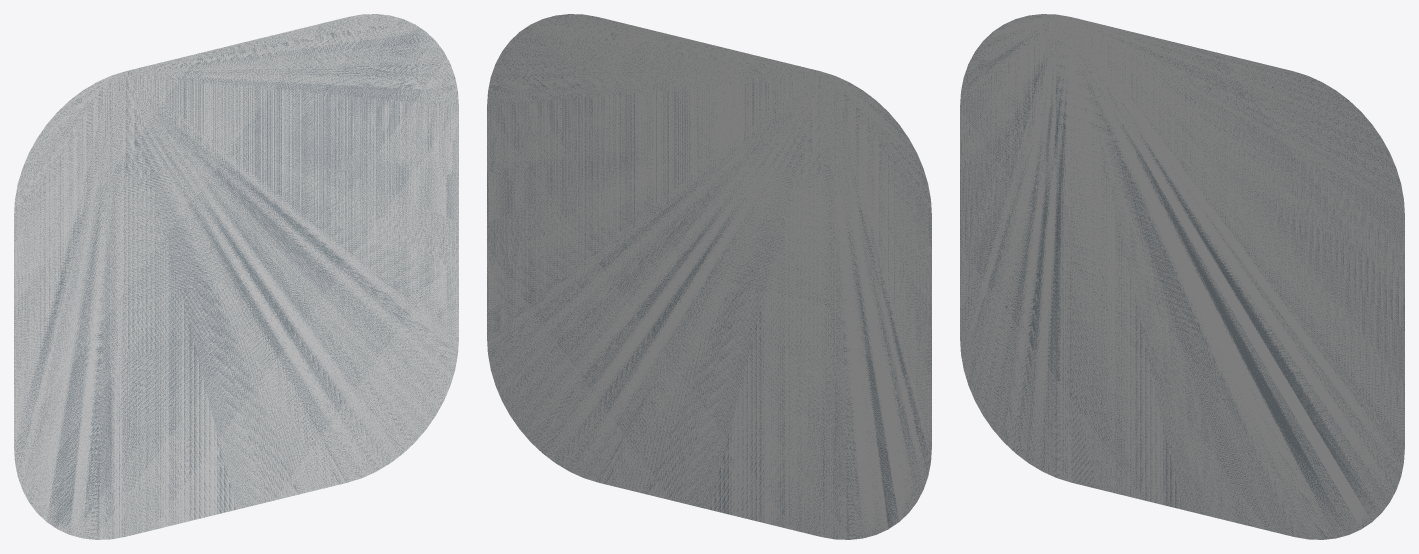
File: Soft_soft_edged.obj
3 renders of one model, left to right at view 1: azimuth 30°, elevation 25°; view 2: azimuth 150°, elevation 25°; view 3: azimuth 330°, elevation 25°, orthographic.
Parts seen in each view (by area): view 1: Mesh1 Model; view 2: Mesh1 Model; view 3: Mesh1 Model.
Boxes of the visible parts, x1,y1,x2,y2 form: Mesh1 Model: [14, 14, 458, 539]; Mesh1 Model: [487, 14, 931, 539]; Mesh1 Model: [960, 14, 1404, 539].
Bounding box in the file's own units: 4.25 × 4.25 × 8.52e-16.
